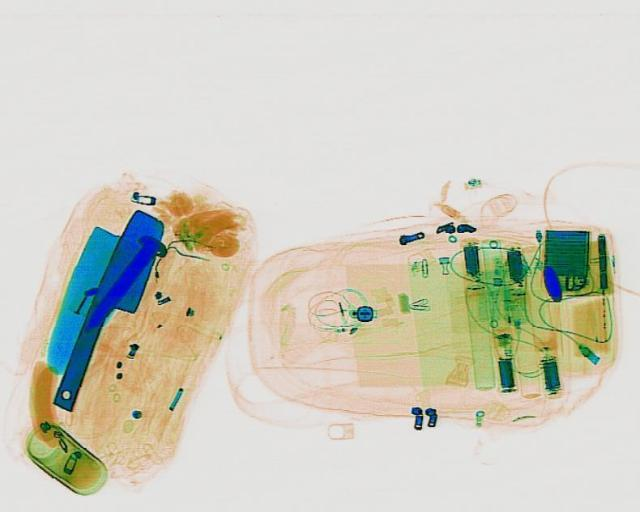Knife: (42, 205, 176, 415)
